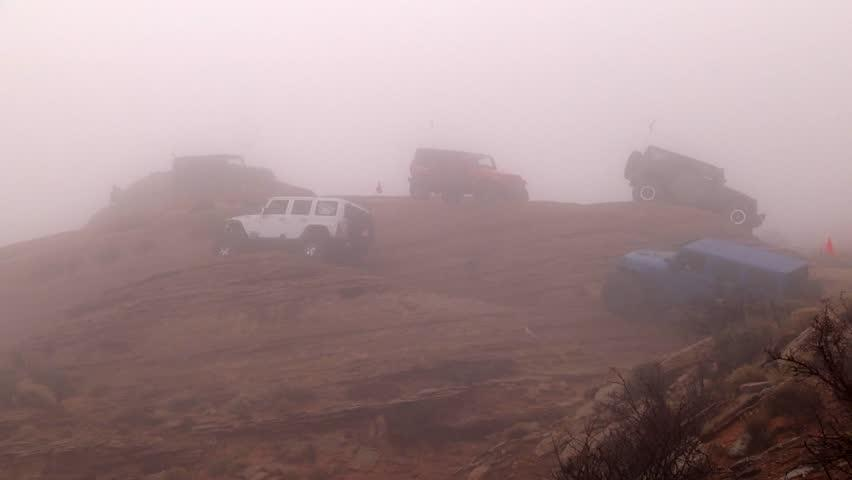car: (598, 235, 811, 348), (624, 145, 765, 236), (218, 194, 377, 263), (410, 146, 530, 205), (168, 152, 279, 214)
